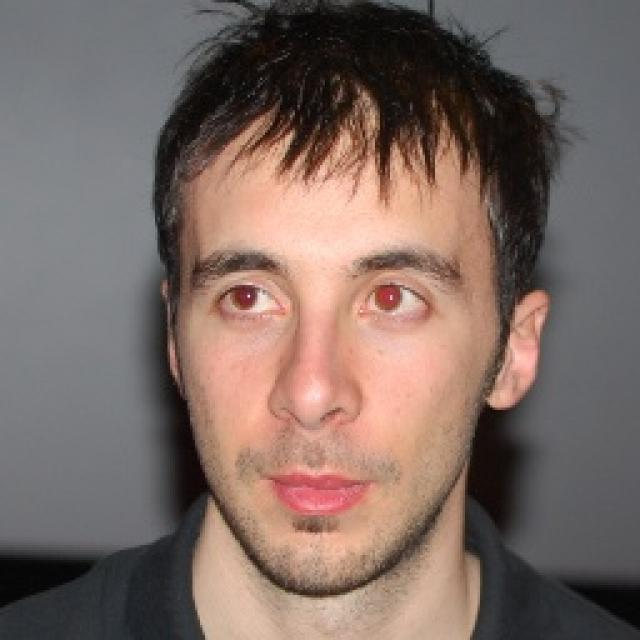earlobe: (484, 292, 549, 411), (160, 282, 186, 402)
